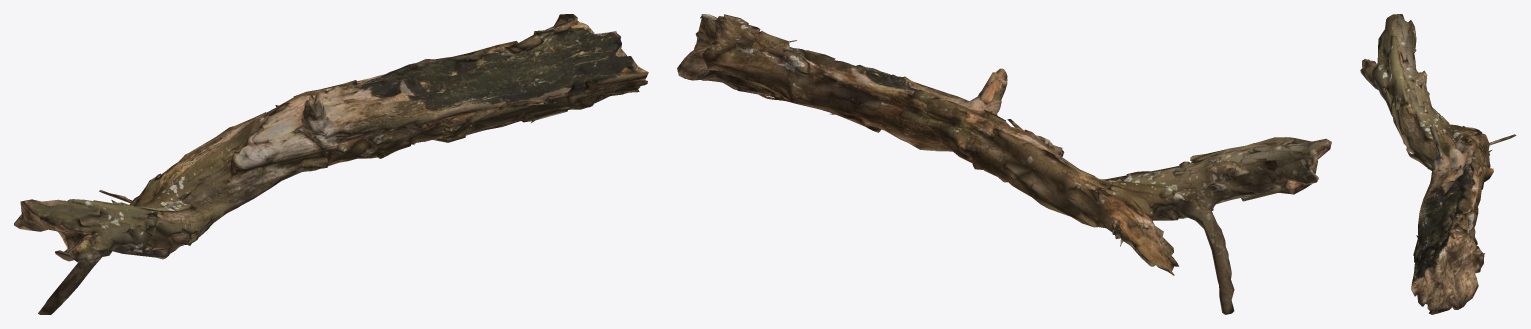
Rendered from dead_tree_trunk_02.glb.
The picture shows the model from 3 angles, left to right: view 1: azimuth 30°, elevation 25°; view 2: azimuth 150°, elevation 25°; view 3: azimuth 270°, elevation 25°; orthographic projection. The views are drawn at different scales.
Visible parts, largest first — view 1: dead_tree_trunk_02; view 2: dead_tree_trunk_02; view 3: dead_tree_trunk_02.
Boxes of the visible parts, x1,y1,x2,y2 form: dead_tree_trunk_02: (14, 14, 648, 314); dead_tree_trunk_02: (677, 14, 1331, 314); dead_tree_trunk_02: (1360, 14, 1516, 314).
Size of the model in its own units: 4.05 by 1.05 by 1.05.
Materials: 1 (1 with a texture image).
